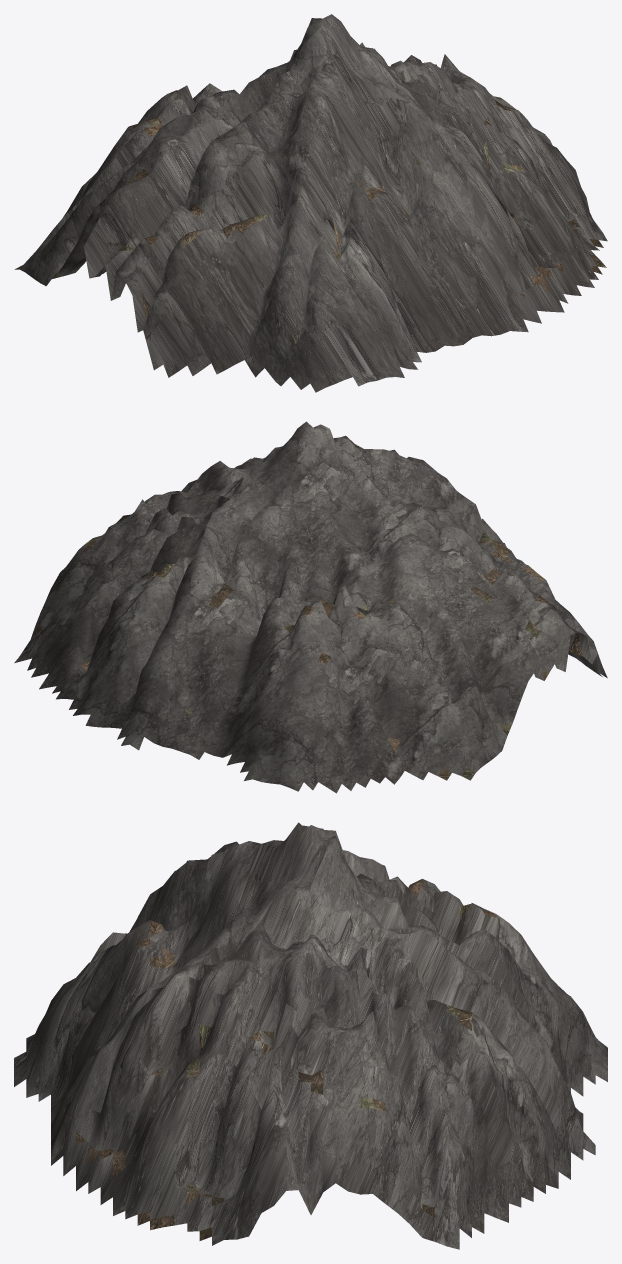
File: border_peak_c_v5_autumn.glb
3 renders of one model, top to bottom at view 1: azimuth 30°, elevation 25°; view 2: azimuth 150°, elevation 25°; view 3: azimuth 270°, elevation 25°, orthographic. The views are drawn at different scales.
Visible parts, largest first — view 1: border_peak_c; view 2: border_peak_c; view 3: border_peak_c.
Part boxes in pixels (x1,y1,x2,y2): border_peak_c: (14,14,607,392); border_peak_c: (14,421,607,793); border_peak_c: (14,822,607,1249).
Bounding box in the file's own units: 1 × 0.5141 × 0.9412.
Materials: 2 (2 with a texture image).
